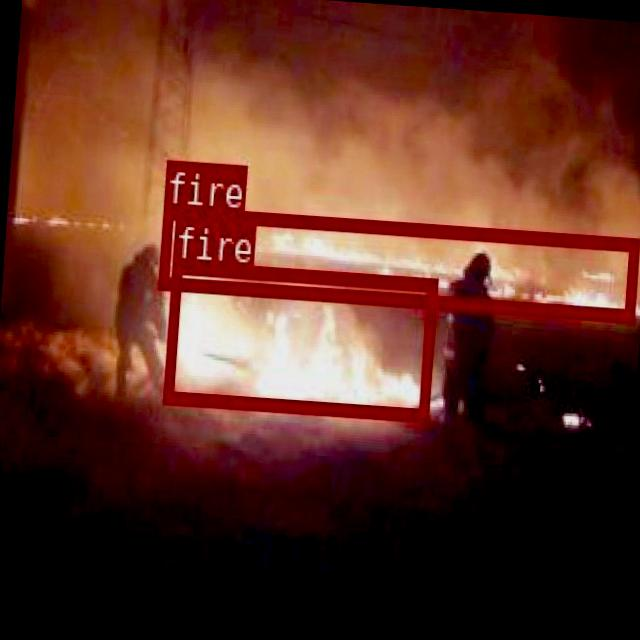fire: (156, 204, 637, 320), (161, 258, 435, 417)
